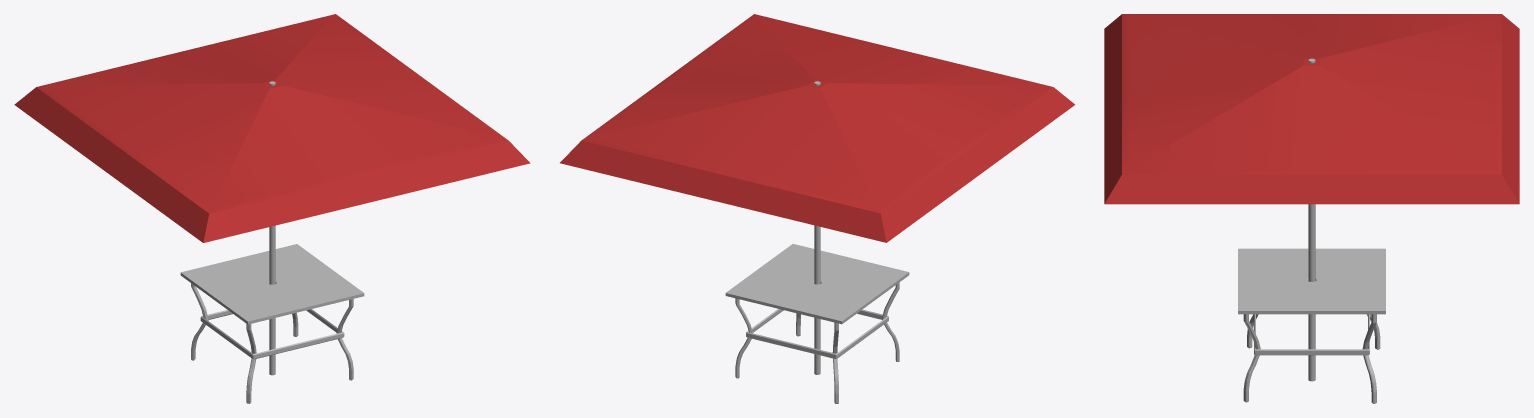
The model's file is umbrella1.fbx.
3 views of the same model, side by side, from view 1: azimuth 30°, elevation 25°; view 2: azimuth 150°, elevation 25°; view 3: azimuth 270°, elevation 25° (orthographic). The views are drawn at different scales.
Parts seen in each view (by area): view 1: pCube197, pCube204, pCylinder9; view 2: pCube197, pCube204, pCylinder9; view 3: pCube197, pCube204, pCylinder9.
Part boxes in pixels (x1,y1,x2,y2): pCube197: (14, 14, 530, 242); pCube204: (180, 244, 364, 403); pCylinder9: (269, 81, 275, 375); pCube197: (560, 14, 1075, 242); pCube204: (725, 244, 909, 403); pCylinder9: (814, 81, 820, 374); pCube197: (1104, 14, 1519, 204); pCube204: (1238, 248, 1385, 403); pCylinder9: (1308, 58, 1315, 381).
Size of the model in its own units: 3 by 2.55 by 3.
Materials: 3 (1 with a texture image).
